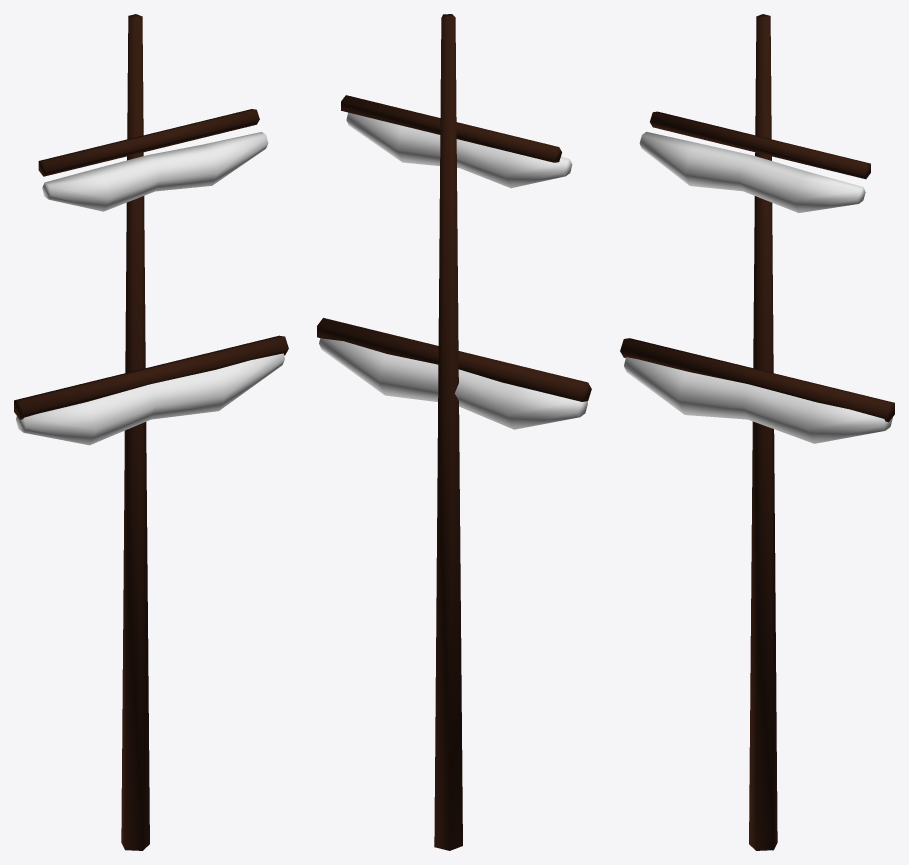
The model's file is mainmast-furled.obj.
3 views of the same model, side by side, from view 1: azimuth 30°, elevation 25°; view 2: azimuth 150°, elevation 25°; view 3: azimuth 330°, elevation 25° (orthographic).
Visible parts, largest first — view 1: Cylinder.029_Cylinder.007_Wood, Cylinder.028_Cylinder.011_SailCloth, Cylinder.035_Cylinder.011_SailCloth, Cylinder.034_Cylinder.009_Wood, Cylinder.030_Cylinder.008_Wood; view 2: Cylinder.029_Cylinder.007_Wood, Cylinder.028_Cylinder.011_SailCloth, Cylinder.035_Cylinder.011_SailCloth, Cylinder.034_Cylinder.009_Wood, Cylinder.030_Cylinder.008_Wood; view 3: Cylinder.029_Cylinder.007_Wood, Cylinder.028_Cylinder.011_SailCloth, Cylinder.035_Cylinder.011_SailCloth, Cylinder.034_Cylinder.009_Wood, Cylinder.030_Cylinder.008_Wood.
Boxes of the visible parts, x1,y1,x2,y2 form: Cylinder.029_Cylinder.007_Wood: (121,14,149,850); Cylinder.028_Cylinder.011_SailCloth: (16,353,284,445); Cylinder.035_Cylinder.011_SailCloth: (42,132,268,211); Cylinder.034_Cylinder.009_Wood: (14,335,288,419); Cylinder.030_Cylinder.008_Wood: (38,109,259,176); Cylinder.029_Cylinder.007_Wood: (434,14,462,850); Cylinder.028_Cylinder.011_SailCloth: (319,338,587,429); Cylinder.035_Cylinder.011_SailCloth: (346,112,572,188); Cylinder.034_Cylinder.009_Wood: (317,318,591,401); Cylinder.030_Cylinder.008_Wood: (341,95,561,162); Cylinder.029_Cylinder.007_Wood: (749,14,777,850); Cylinder.028_Cylinder.011_SailCloth: (624,357,892,443); Cylinder.035_Cylinder.011_SailCloth: (639,131,865,212); Cylinder.034_Cylinder.009_Wood: (620,338,894,422); Cylinder.030_Cylinder.008_Wood: (650,111,870,179).
Size of the model in its own units: 1.79 by 5.35 by 0.3827.
